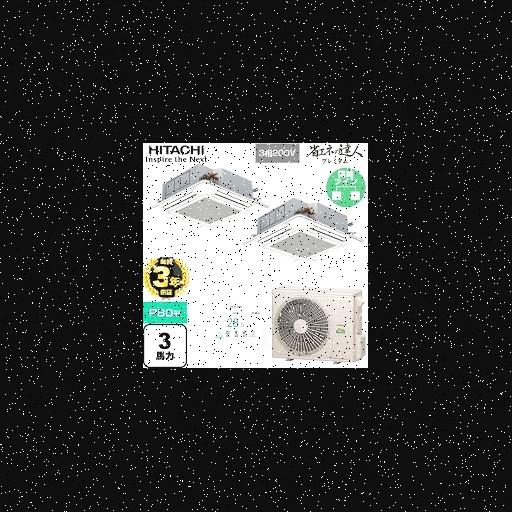4-way-ac: (145, 181, 272, 232), (243, 215, 366, 262)
